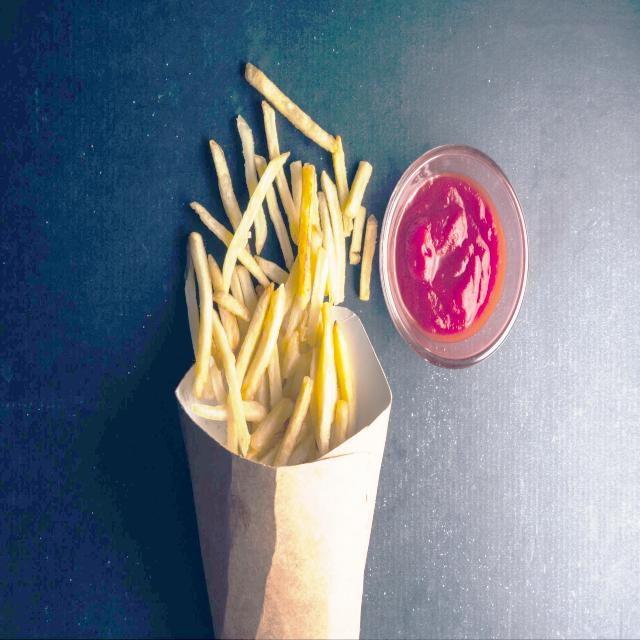french fries: (189, 64, 378, 457)
ketchup: (387, 166, 511, 348)
